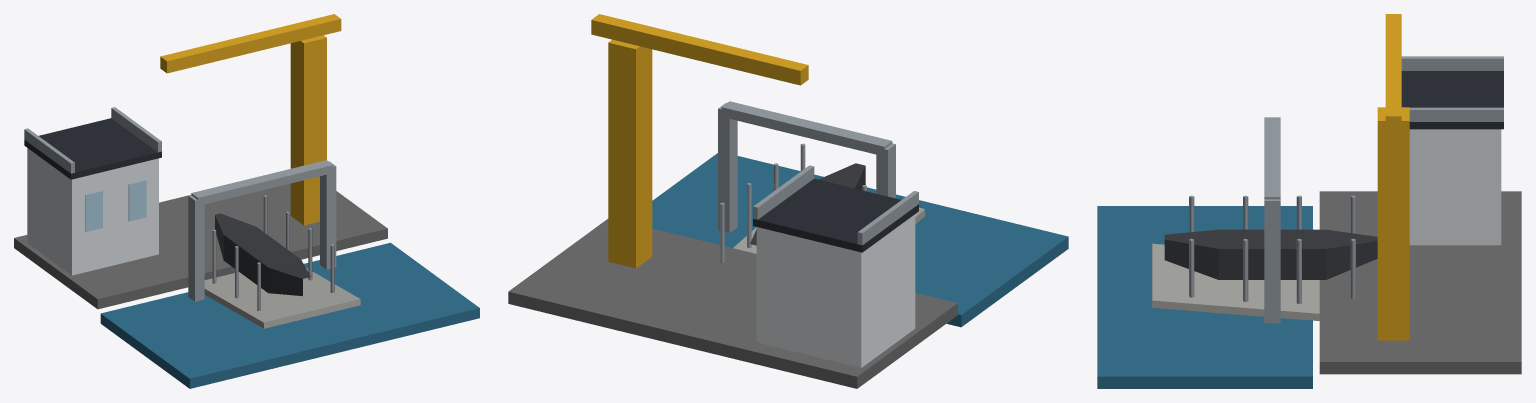
Rendered from bld_special_shipyard_a08_lod1.glb.
3 renders of one model, left to right at view 1: azimuth 30°, elevation 25°; view 2: azimuth 150°, elevation 25°; view 3: azimuth 270°, elevation 25°, orthographic. The views are drawn at different scales.
Visible parts, largest first — view 1: body, crane; view 2: body, crane; view 3: body, crane.
Boxes of the visible parts, x1,y1,x2,y2 form: body: (14, 107, 479, 388); crane: (160, 14, 341, 225); body: (508, 101, 1068, 388); crane: (591, 14, 808, 268); body: (1097, 56, 1521, 388); crane: (1377, 14, 1409, 340).
Bounding box in the file's own units: 15 × 10.7 × 15.75.
